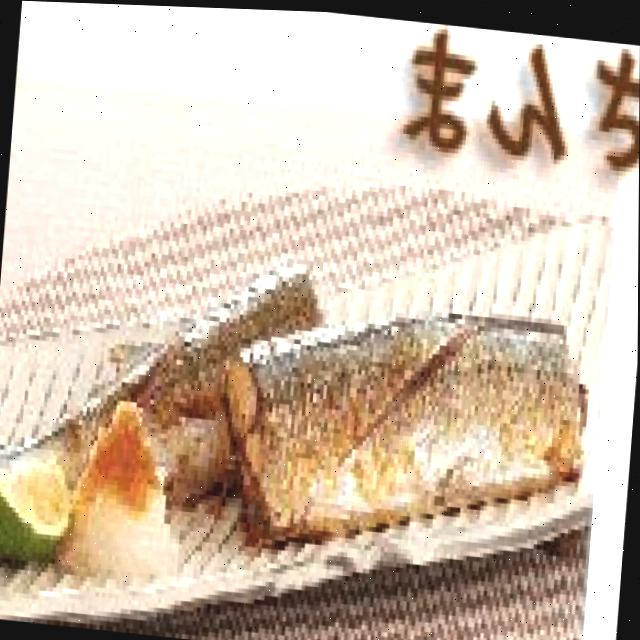熟制海鲜: (0, 222, 620, 602)
